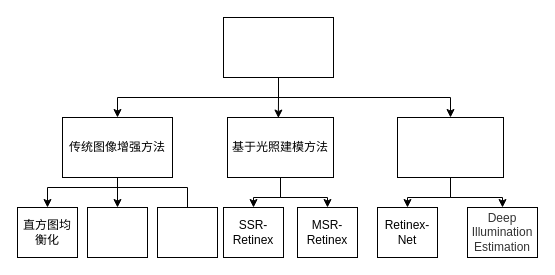
Some shapes in this 555 by 275 pixel diagram are drawn without their labels. Each missing label, with the centre of its shape:
"伽马矫正" goes at point 117,232.
"暗态图像增强" goes at point 278,47.
"深度学习相关方法" goes at point 450,147.
"色彩对比度" goes at point 187,232.
